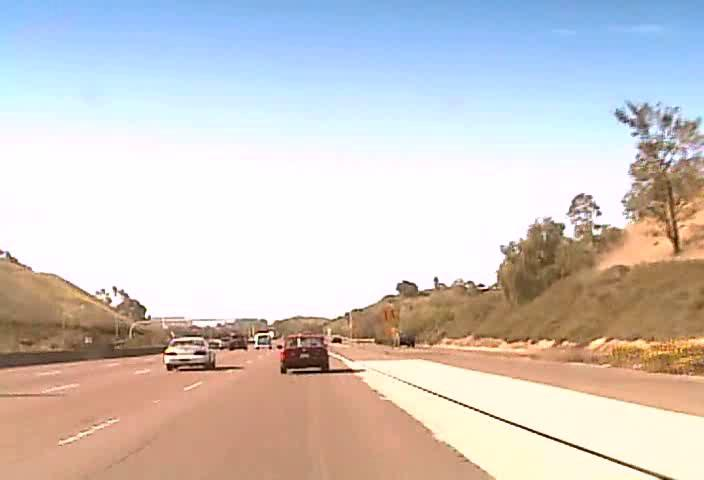addedLane: (378, 304, 400, 323)
